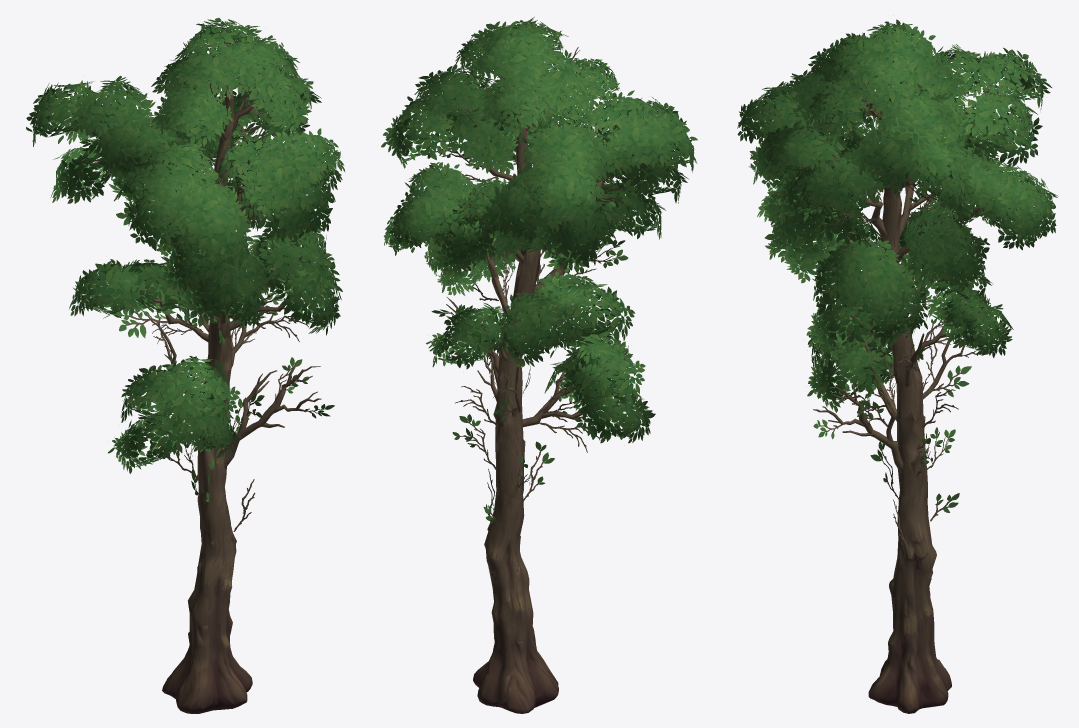
File: SM_FW01_Tree_B_03.fbx
The picture shows the model from 3 angles, left to right: view 1: azimuth 30°, elevation 25°; view 2: azimuth 150°, elevation 25°; view 3: azimuth 270°, elevation 25°; orthographic projection. The views are drawn at different scales.
Parts seen in each view (by area): view 1: SM_FW01_Tree_B_03_LOD0; view 2: SM_FW01_Tree_B_03_LOD0; view 3: SM_FW01_Tree_B_03_LOD0.
Part boxes in pixels (x1,y1,x2,y2): SM_FW01_Tree_B_03_LOD0: (26,18,344,713); SM_FW01_Tree_B_03_LOD0: (381,17,697,713); SM_FW01_Tree_B_03_LOD0: (737,19,1058,713).
Size of what is drawn, in the model's own units: 4.57 by 11.78 by 5.14.
